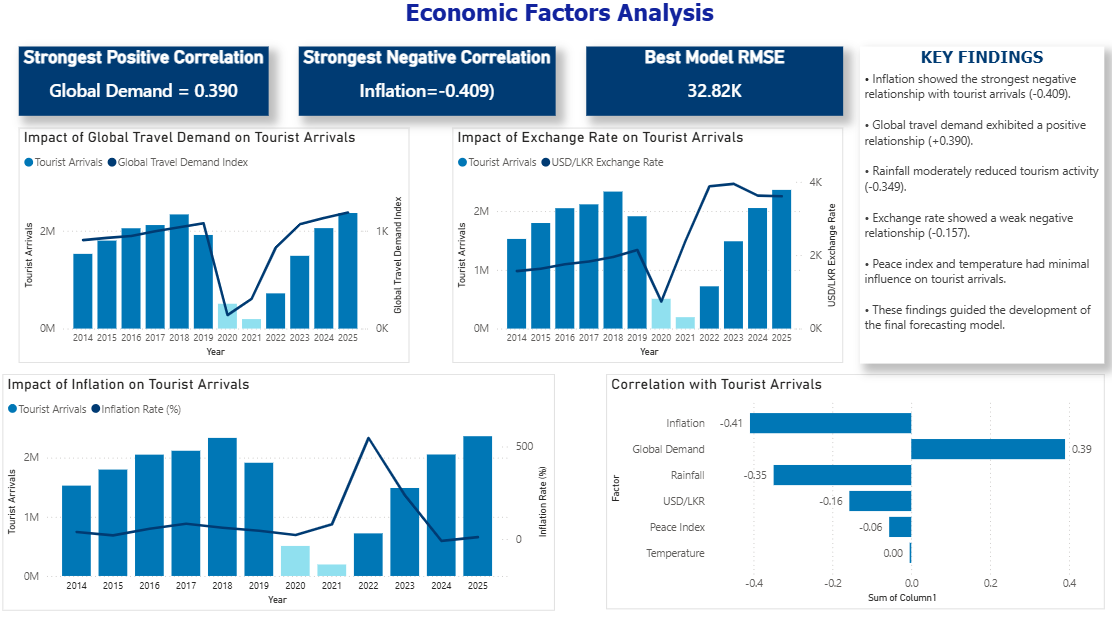

This screenshot's page, from the dashboard's own definition file:
{"tool":"powerbi","page":{"name":"Economic Factors Analysis","canvas":[1280,720],"ordinal":1},"visuals":[{"type":"lineClusteredColumnComboChart","title":"Impact of Inflation on Tourist Arrivals","fields":{"Category":["final_tourism_dashboard_dataset.date.Variation.Date Hierarchy.Year","final_tourism_dashboard_dataset.date.Variation.Date Hierarchy.Day"],"Y":["Sum(final_tourism_dashboard_dataset.arrivals)"],"Y2":["Sum(final_tourism_dashboard_dataset.inflation)"]},"box":[9.1,433.6,630.9,270],"z":0},{"type":"lineClusteredColumnComboChart","title":"Impact of Exchange Rate on Tourist Arrivals","fields":{"Category":["final_tourism_dashboard_dataset.date.Variation.Date Hierarchy.Year","final_tourism_dashboard_dataset.date.Variation.Date Hierarchy.Quarter","final_tourism_dashboard_dataset.date.Variation.Date Hierarchy.Month","final_tourism_dashboard_dataset.date.Variation.Date Hierarchy.Day"],"Y":["Sum(final_tourism_dashboard_dataset.arrivals)"],"Y2":["Sum(final_tourism_dashboard_dataset.usd_lkr)"]},"box":[523.2,153.2,446.6,268.7],"z":1000},{"type":"lineClusteredColumnComboChart","title":"Impact of Global Travel Demand on Tourist Arrivals","fields":{"Category":["final_tourism_dashboard_dataset.date.Variation.Date Hierarchy.Year","final_tourism_dashboard_dataset.date.Variation.Date Hierarchy.Quarter","final_tourism_dashboard_dataset.date.Variation.Date Hierarchy.Month","final_tourism_dashboard_dataset.date.Variation.Date Hierarchy.Day"],"Y":["Sum(final_tourism_dashboard_dataset.arrivals)"],"Y2":["Sum(final_tourism_dashboard_dataset.global_demand)"]},"box":[27.3,153.2,446.6,268.7],"z":2000},{"type":"clusteredBarChart","title":"Correlation with Tourist Arrivals","fields":{"Y":["Sum(Correlation.Column1)"],"Category":["Correlation.Factor"]},"box":[698.4,434.9,569.9,268.7],"z":3000},{"type":"textbox","box":[9.6,0,1270.7,45.3],"z":4000},{"type":"cardVisual","title":"Strongest Positive Correlation","fields":{"Data":["Correlation.Strongest Positive Summary"]},"box":[27.3,59.7,285.6,79.2],"z":5000},{"type":"cardVisual","title":"Strongest Negative Correlation","fields":{"Data":["Correlation.Strongest Negative Summary"]},"box":[346.6,59.7,293.4,79.2],"z":6000},{"type":"cardVisual","title":"Best Model RMSE","fields":{"Data":["model_comparison.best RMSE"]},"box":[676.3,59.7,293.4,79.2],"z":7000},{"type":"textbox","title":"KEY FINDINGS","box":[989.2,59.7,279.1,362.2],"z":8000}]}

Visuals, with their boxes in screenshot pixels (x1, y1, x2, y2), scaled from the page's 1280x720 canvas onto the 1112x617 screenshot:
"Impact of Inflation on Tourist Arrivals" lineClusteredColumnComboChart: (8,372,556,603)
"Impact of Exchange Rate on Tourist Arrivals" lineClusteredColumnComboChart: (455,131,843,362)
"Impact of Global Travel Demand on Tourist Arrivals" lineClusteredColumnComboChart: (24,131,412,362)
"Correlation with Tourist Arrivals" clusteredBarChart: (607,373,1102,603)
textbox: (8,0,1111,39)
"Strongest Positive Correlation" cardVisual: (24,51,272,119)
"Strongest Negative Correlation" cardVisual: (301,51,556,119)
"Best Model RMSE" cardVisual: (588,51,842,119)
"KEY FINDINGS" textbox: (859,51,1102,362)
